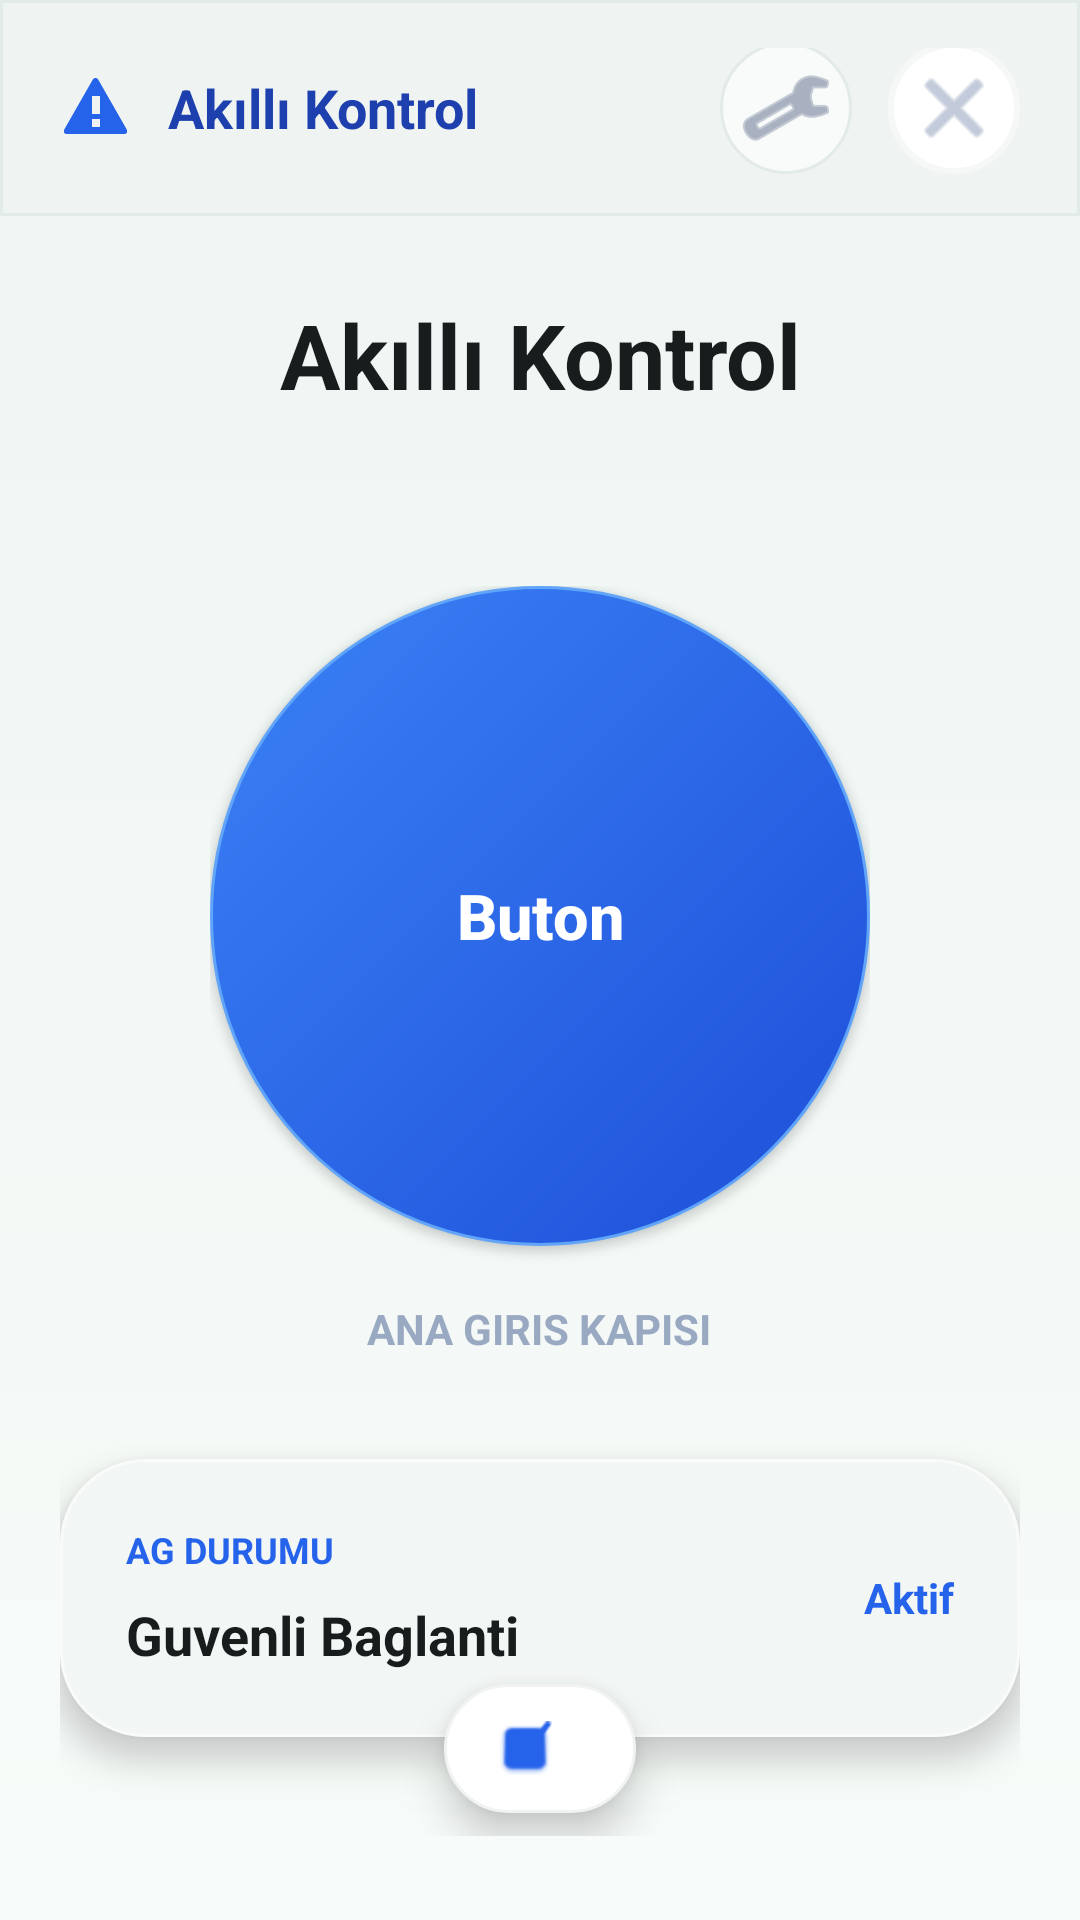

Point at icon controls on the screen. Image size 1080*1920, points as point (x, y).
Ayarlar: point (786, 111)
Kapat: point (954, 108)
warning: point (95, 106)
